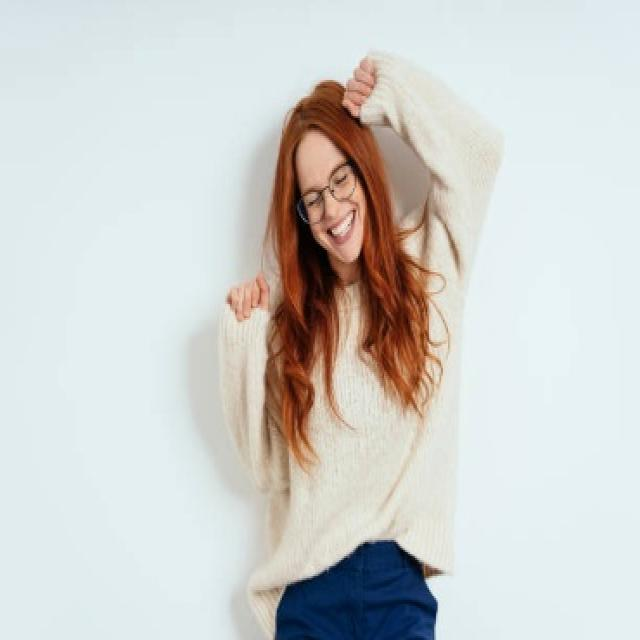adult: (195, 49, 483, 640)
